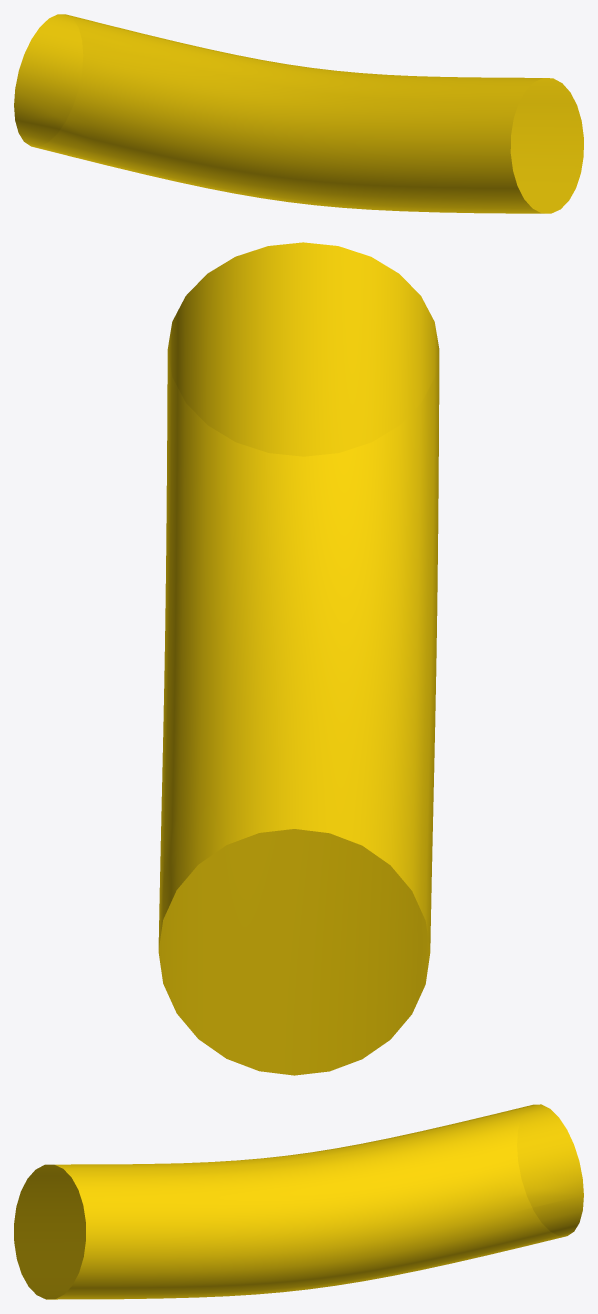
The model's file is Event_420094457_track_81.fbx.
3 views of the same model, one above another, from view 1: azimuth 30°, elevation 25°; view 2: azimuth 150°, elevation 25°; view 3: azimuth 270°, elevation 25° (orthographic). The views are drawn at different scales.
Visible parts, largest first — view 1: Model; view 2: Model; view 3: Model.
Boxes of the visible parts, x1,y1,x2,y2 form: Model: [14, 14, 583, 213]; Model: [158, 242, 439, 1075]; Model: [14, 1104, 583, 1299].
Size of the model in its own units: 0.1183 by 0.0585 by 0.1678.
